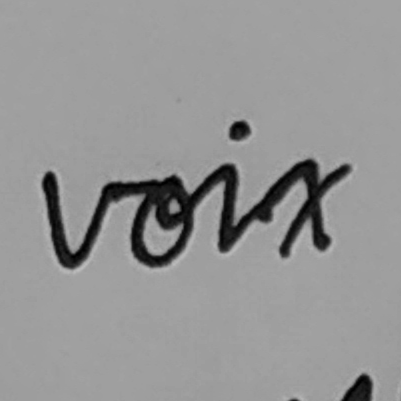i: (207, 116, 258, 260)
o: (126, 167, 200, 272)
v: (36, 166, 124, 278)
x: (270, 153, 357, 262)
